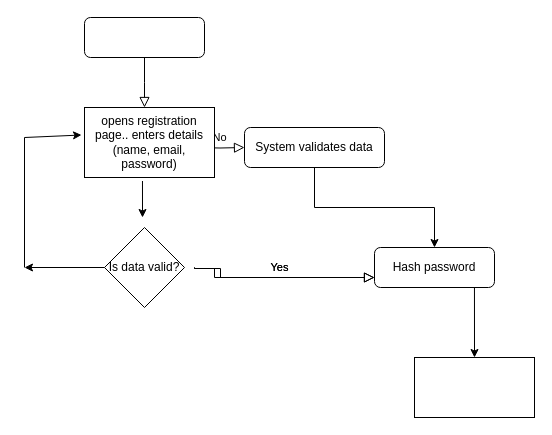
Some shapes in this 552 by 435 pixel diagram are drawn without their labels. The shapes that lost their labels are listed below. From the top down, each one's centre as x and y in pixels, then its label:
At point 144,37: "Lamp doesn't work".
At point 474,387: "Save user to database".
